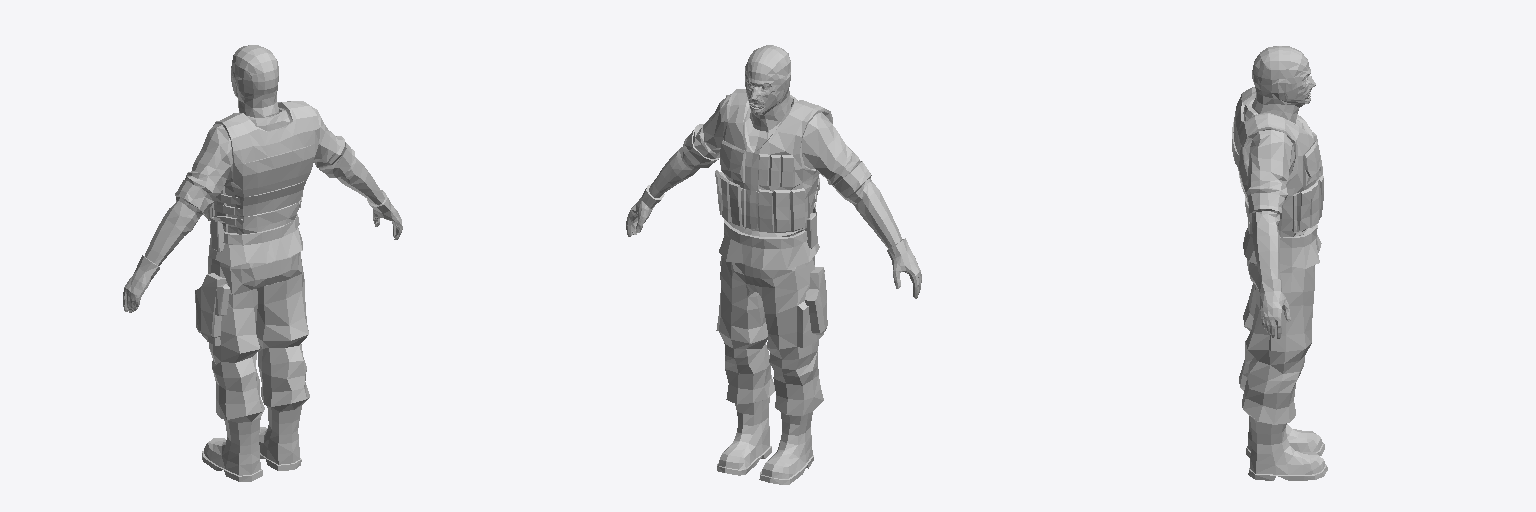
Rendered from cstarget1.obj.
3 views of the same model, side by side, from view 1: azimuth 30°, elevation 25°; view 2: azimuth 150°, elevation 25°; view 3: azimuth 270°, elevation 25° (orthographic).
Parts seen in each view (by area): view 1: t_phoenix_reference.smd, t_arctic_holster.smd; view 2: t_phoenix_reference.smd, t_arctic_holster.smd; view 3: t_phoenix_reference.smd.
Part boxes in pixels (left/top/right/bottom): t_phoenix_reference.smd: left=123, top=45, right=402, bottom=481; t_arctic_holster.smd: left=195, top=273, right=229, bottom=338; t_phoenix_reference.smd: left=626, top=45, right=921, bottom=484; t_arctic_holster.smd: left=805, top=267, right=827, bottom=334; t_phoenix_reference.smd: left=1232, top=46, right=1327, bottom=480.
Bounding box in the file's own units: 1.06 × 1.48 × 0.3115.